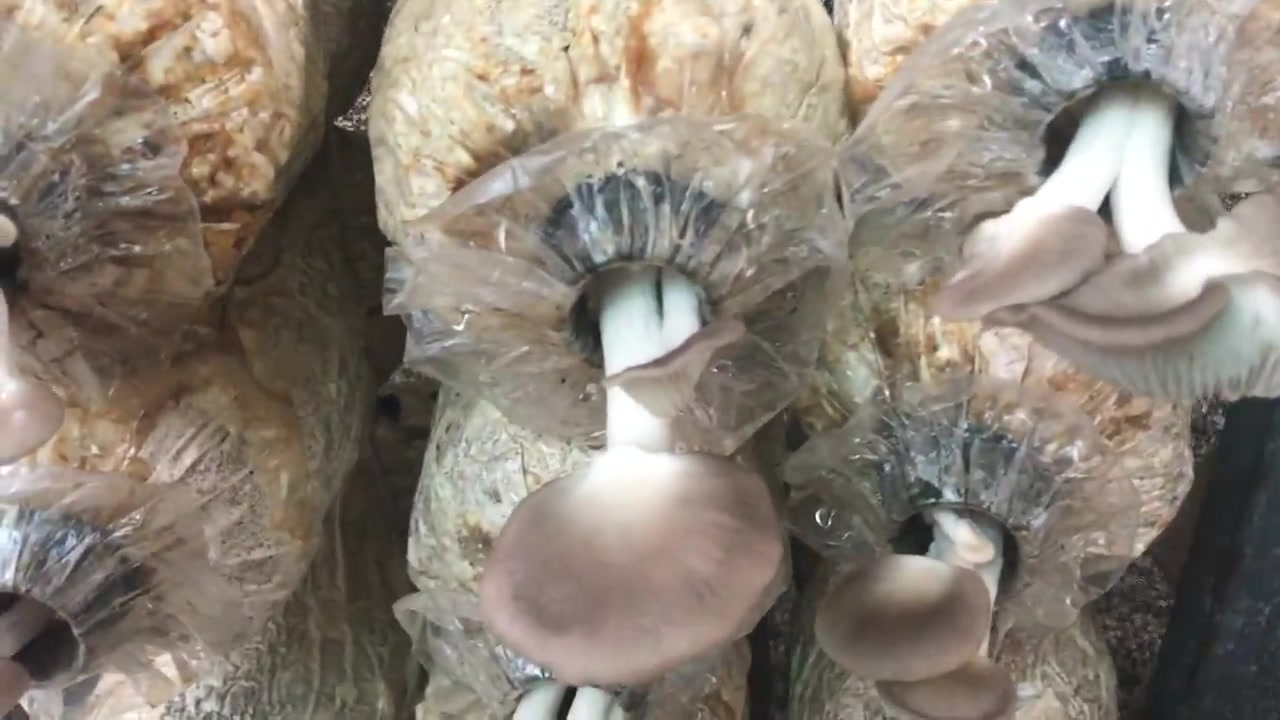nam: (478, 188, 796, 689), (935, 21, 1278, 400), (815, 439, 1056, 720)
